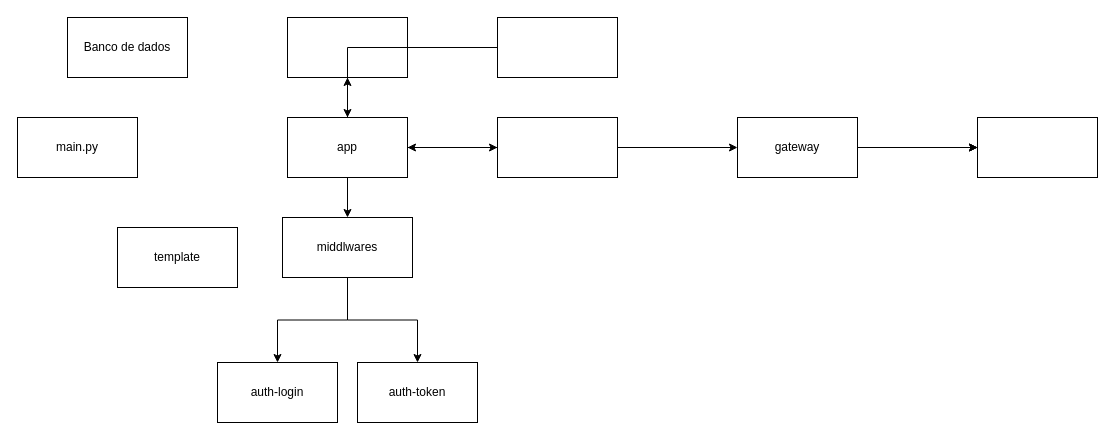
Some shapes in this 1115 by 440 pixel diagram are drawn without their labels. Here are the shapes that lost their labels. From the top down, the centre of each, then its label:
the point at 347,47: environment
the point at 557,47: ba
the point at 557,147: routes
the point at 1037,147: Brower - Client
